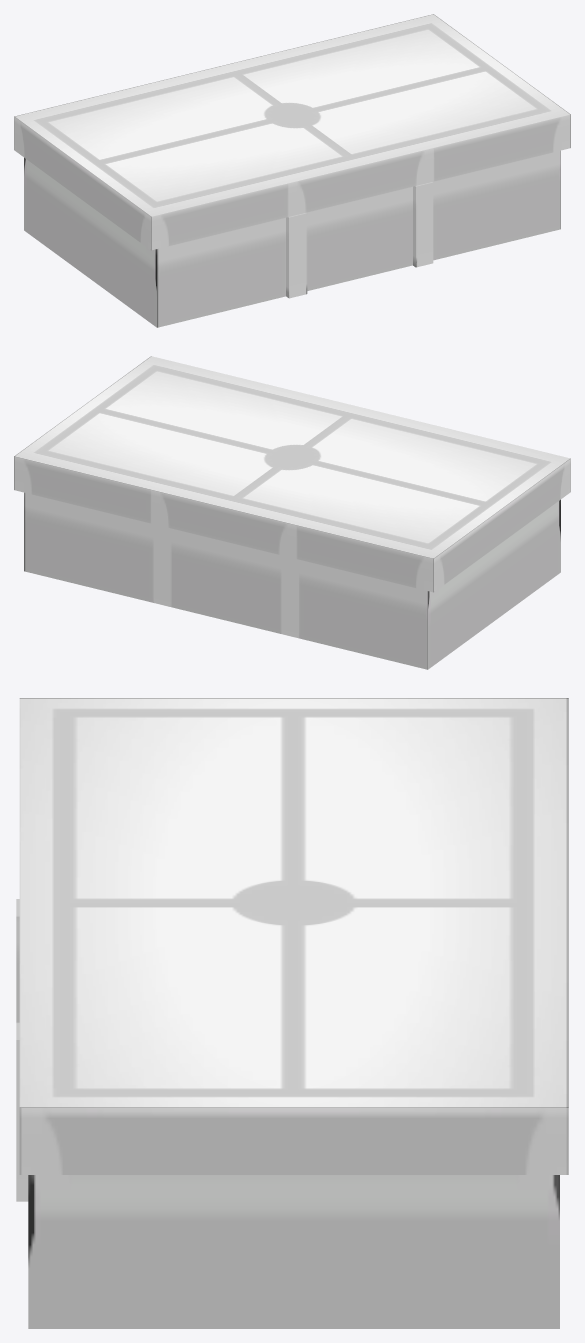
The model's file is Building_Altar_Large.glb.
3 views of the same model, one above another, from view 1: azimuth 30°, elevation 25°; view 2: azimuth 150°, elevation 25°; view 3: azimuth 270°, elevation 25° (orthographic). The views are drawn at different scales.
Visible parts, largest first — view 1: Altar_Large; view 2: Altar_Large; view 3: Altar_Large.
Part boxes in pixels (x1,y1,x2,y2): Altar_Large: [14, 14, 570, 327]; Altar_Large: [14, 356, 570, 669]; Altar_Large: [16, 698, 568, 1328].
Bounding box in the file's own units: 2.88 × 0.75 × 1.64.
Materials: 1 (1 with a texture image).
